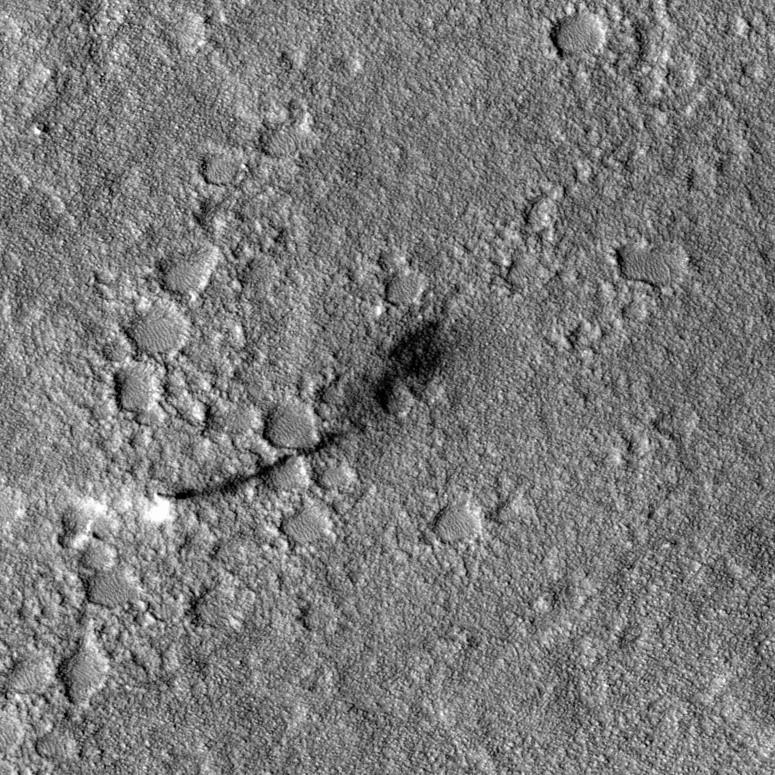dust_devil: (139, 311, 456, 528)
